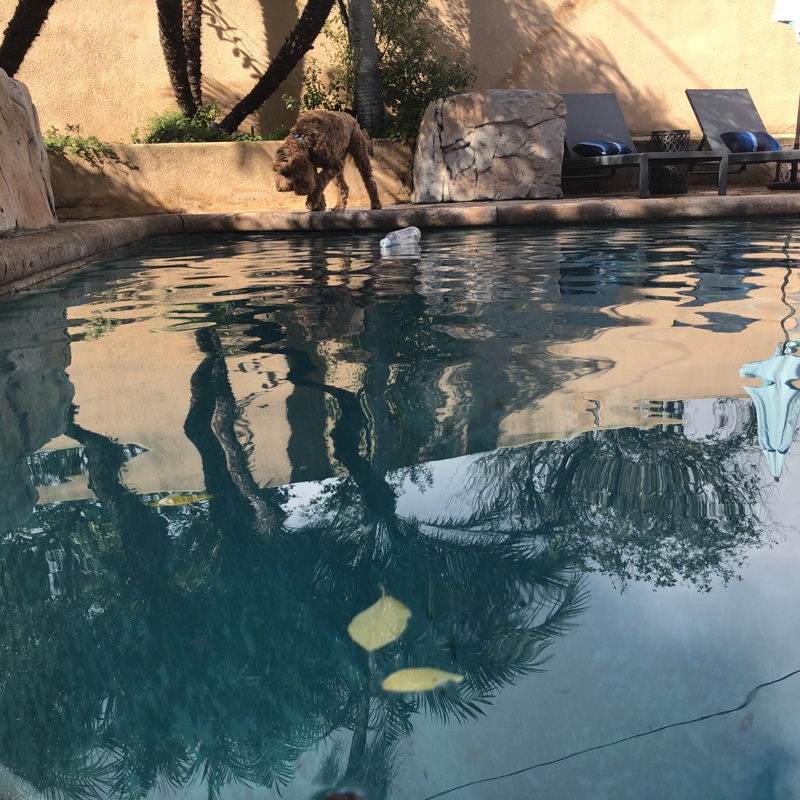Plastic Bottle: (379, 226, 422, 247)
